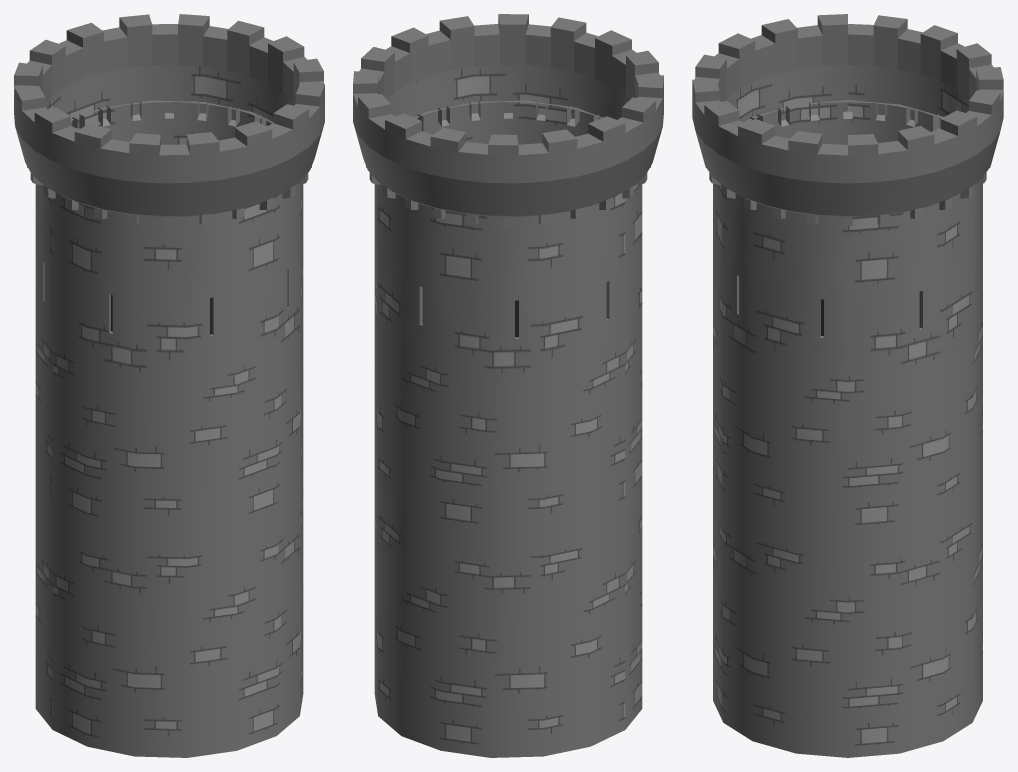
The model's file is towerhollowinner.fbx.
The picture shows the model from 3 angles, left to right: view 1: azimuth 30°, elevation 25°; view 2: azimuth 150°, elevation 25°; view 3: azimuth 270°, elevation 25°; orthographic projection.
Parts seen in each view (by area): view 1: group175_pCube974; view 2: group175_pCube974; view 3: group175_pCube974.
Part boxes in pixels (<box>): group175_pCube974: <box>14,14,324,757</box>; group175_pCube974: <box>353,14,663,757</box>; group175_pCube974: <box>692,14,1003,757</box>.
Bounding box in the file's own units: 893 × 1966 × 893.
